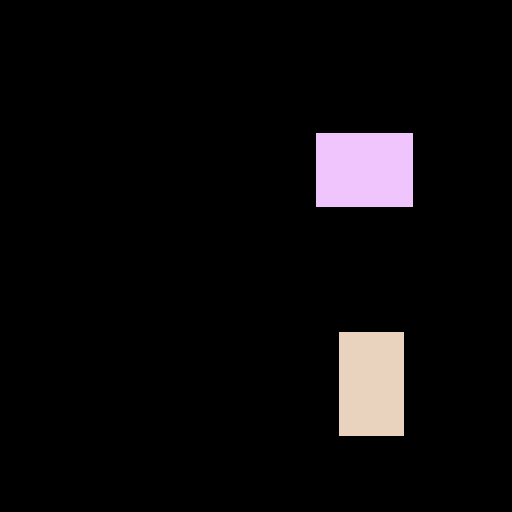rectangle: (316, 133, 412, 206), (339, 332, 403, 435)
